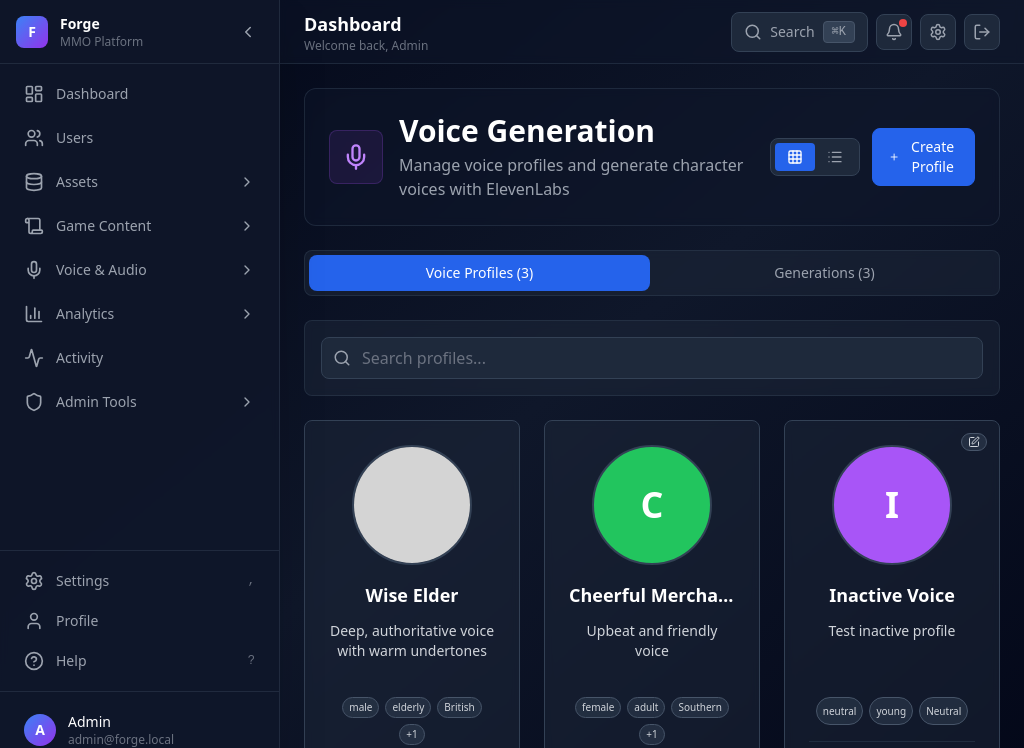
Test: VoicePage - Integration Tests › Initial Loading › fetches and displays generations on mount
expect the heading "Wise Elder" is shown: met, box [366,583,458,607]
Note: Switch to generations tab
Click the button "Generations (3)" at (824,273), box [654,255,995,291]
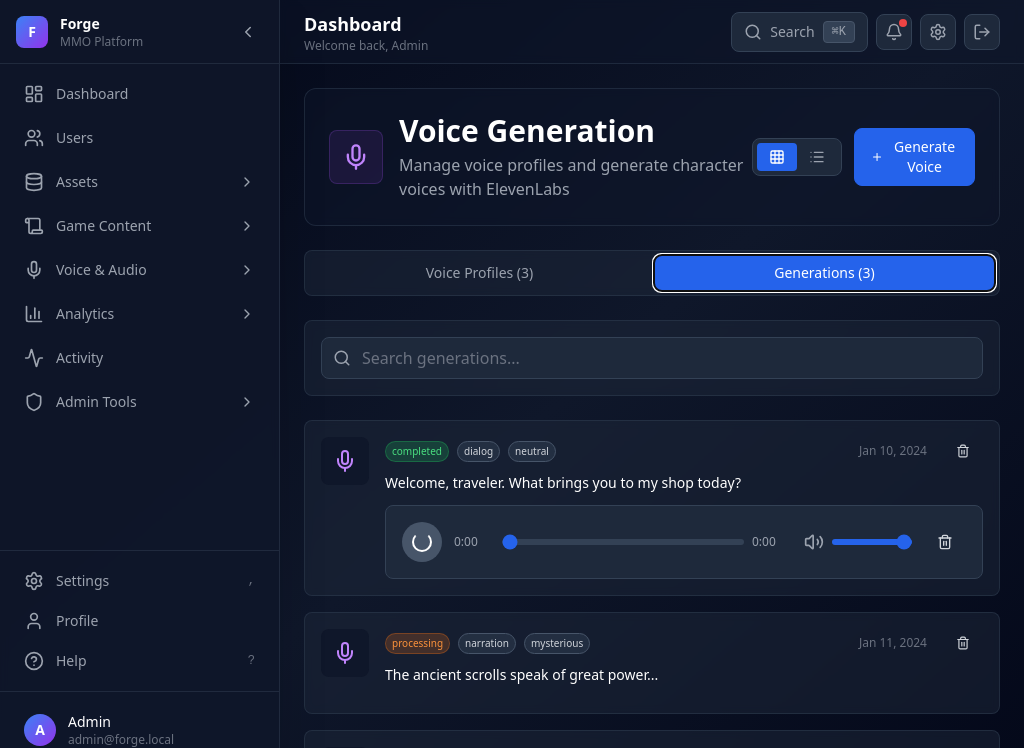
expect the text "Welcome, traveler. What brings you to my shop today?" is shown: met, box [385,473,741,492]
